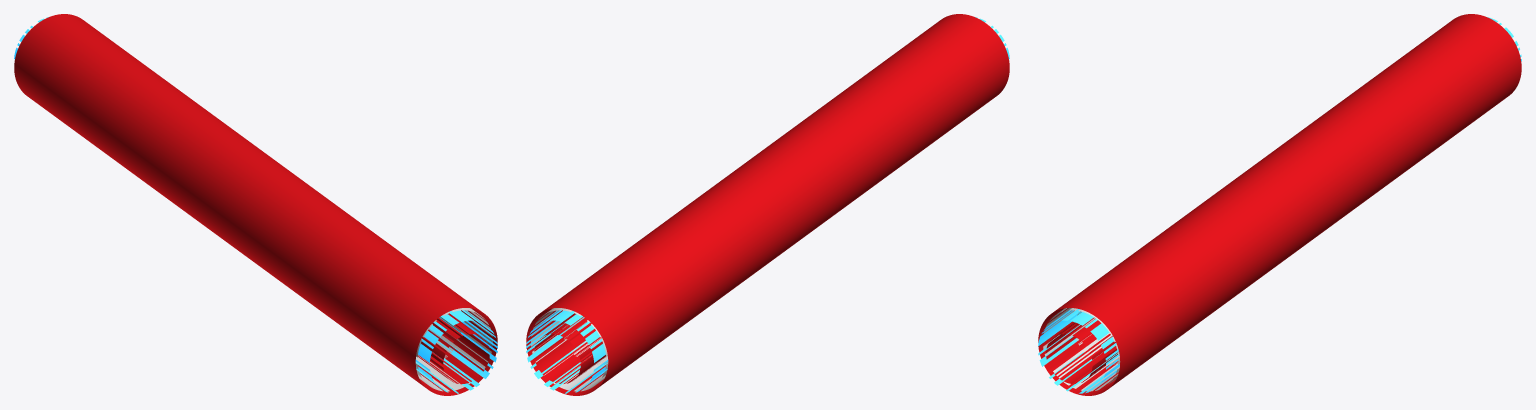
File: tunnel.gltf
3 views of the same model, side by side, from view 1: azimuth 30°, elevation 25°; view 2: azimuth 150°, elevation 25°; view 3: azimuth 330°, elevation 25° (orthographic).
Visible parts, largest first — view 1: Cylinder.004_4, Cylinder_0, Cylinder.002_2, Cylinder.003_3; view 2: Cylinder.004_4, Cylinder.002_2, Cylinder_0, Cylinder.003_3; view 3: Cylinder.004_4, Cylinder.002_2, Cylinder_0, Cylinder.003_3.
Part boxes in pixels (x1,y1,x2,y2): Cylinder.004_4: [14, 14, 497, 395]; Cylinder_0: [14, 17, 497, 393]; Cylinder.002_2: [417, 313, 489, 384]; Cylinder.003_3: [415, 308, 492, 391]; Cylinder.004_4: [526, 14, 1009, 395]; Cylinder.002_2: [534, 313, 605, 383]; Cylinder_0: [526, 17, 1009, 393]; Cylinder.003_3: [531, 308, 608, 391]; Cylinder.004_4: [1038, 14, 1521, 395]; Cylinder.002_2: [1046, 317, 1118, 384]; Cylinder_0: [1038, 17, 1521, 393]; Cylinder.003_3: [1043, 308, 1120, 391].
Size of the model in its own units: 6.56 by 6.56 by 58.41.
